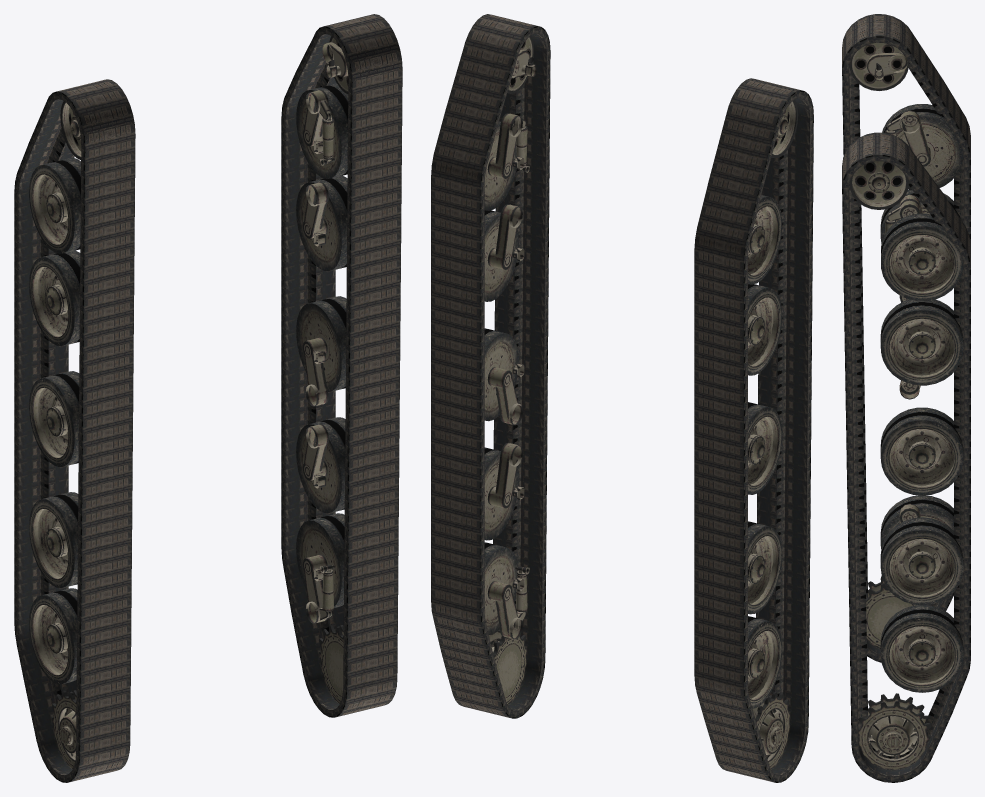
Rendered from Chassis.glb.
3 renders of one model, left to right at view 1: azimuth 30°, elevation 25°; view 2: azimuth 150°, elevation 25°; view 3: azimuth 270°, elevation 25°, orthographic. The views are drawn at different scales.
Parts seen in each view (by area): view 1: set_1_group_0, set_0_group_0, set_3_group_0, set_2_group_0; view 2: set_1_group_0, set_0_group_0, set_3_group_0, set_2_group_0; view 3: set_3_group_0, set_0_group_0, set_2_group_0, set_1_group_0.
Part boxes in pixels (<box>): set_1_group_0: <box>14,79,135,782</box>; set_0_group_0: <box>281,14,402,717</box>; set_3_group_0: <box>296,36,348,703</box>; set_2_group_0: <box>29,101,81,768</box>; set_1_group_0: <box>694,78,813,782</box>; set_0_group_0: <box>431,14,550,718</box>; set_3_group_0: <box>484,36,536,704</box>; set_2_group_0: <box>748,100,798,768</box>; set_3_group_0: <box>849,161,963,769</box>; set_0_group_0: <box>842,132,970,782</box>; set_2_group_0: <box>849,42,963,648</box>; set_1_group_0: <box>842,14,970,662</box>.
Bounding box in the file's own units: 2.81 × 5.84 × 1.09.
4 materials, 4 textured.
